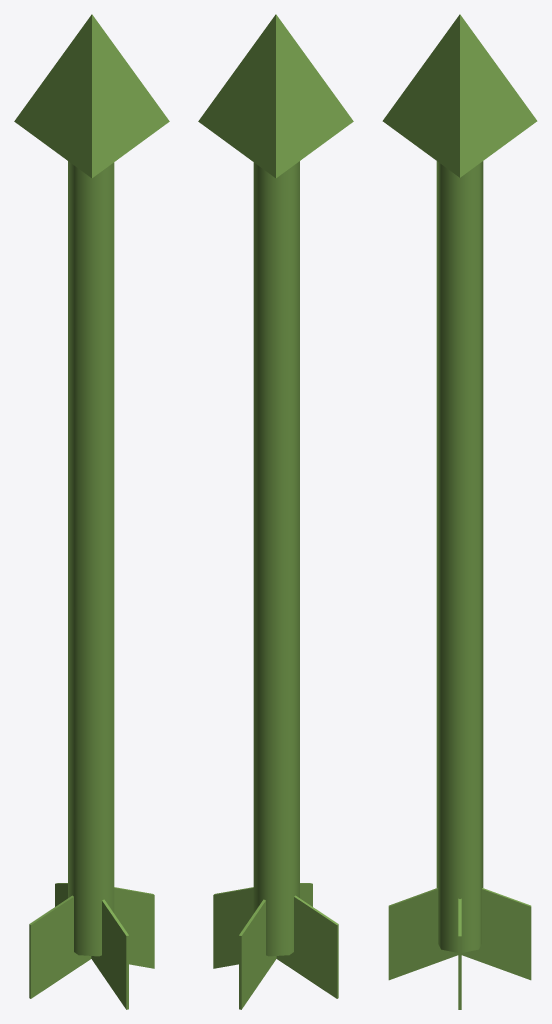
The model's file is Arrow.fbx.
The picture shows the model from 3 angles, left to right: view 1: azimuth 30°, elevation 25°; view 2: azimuth 150°, elevation 25°; view 3: azimuth 270°, elevation 25°; orthographic projection.
Visible parts, largest first — view 1: Arrow; view 2: Arrow; view 3: Arrow.
Boxes of the visible parts, x1,y1,x2,y2 form: Arrow: [14, 14, 169, 1009]; Arrow: [198, 14, 353, 1009]; Arrow: [382, 14, 537, 1009].
Size of the model in its own units: 14.19 by 93.97 by 13.68.
